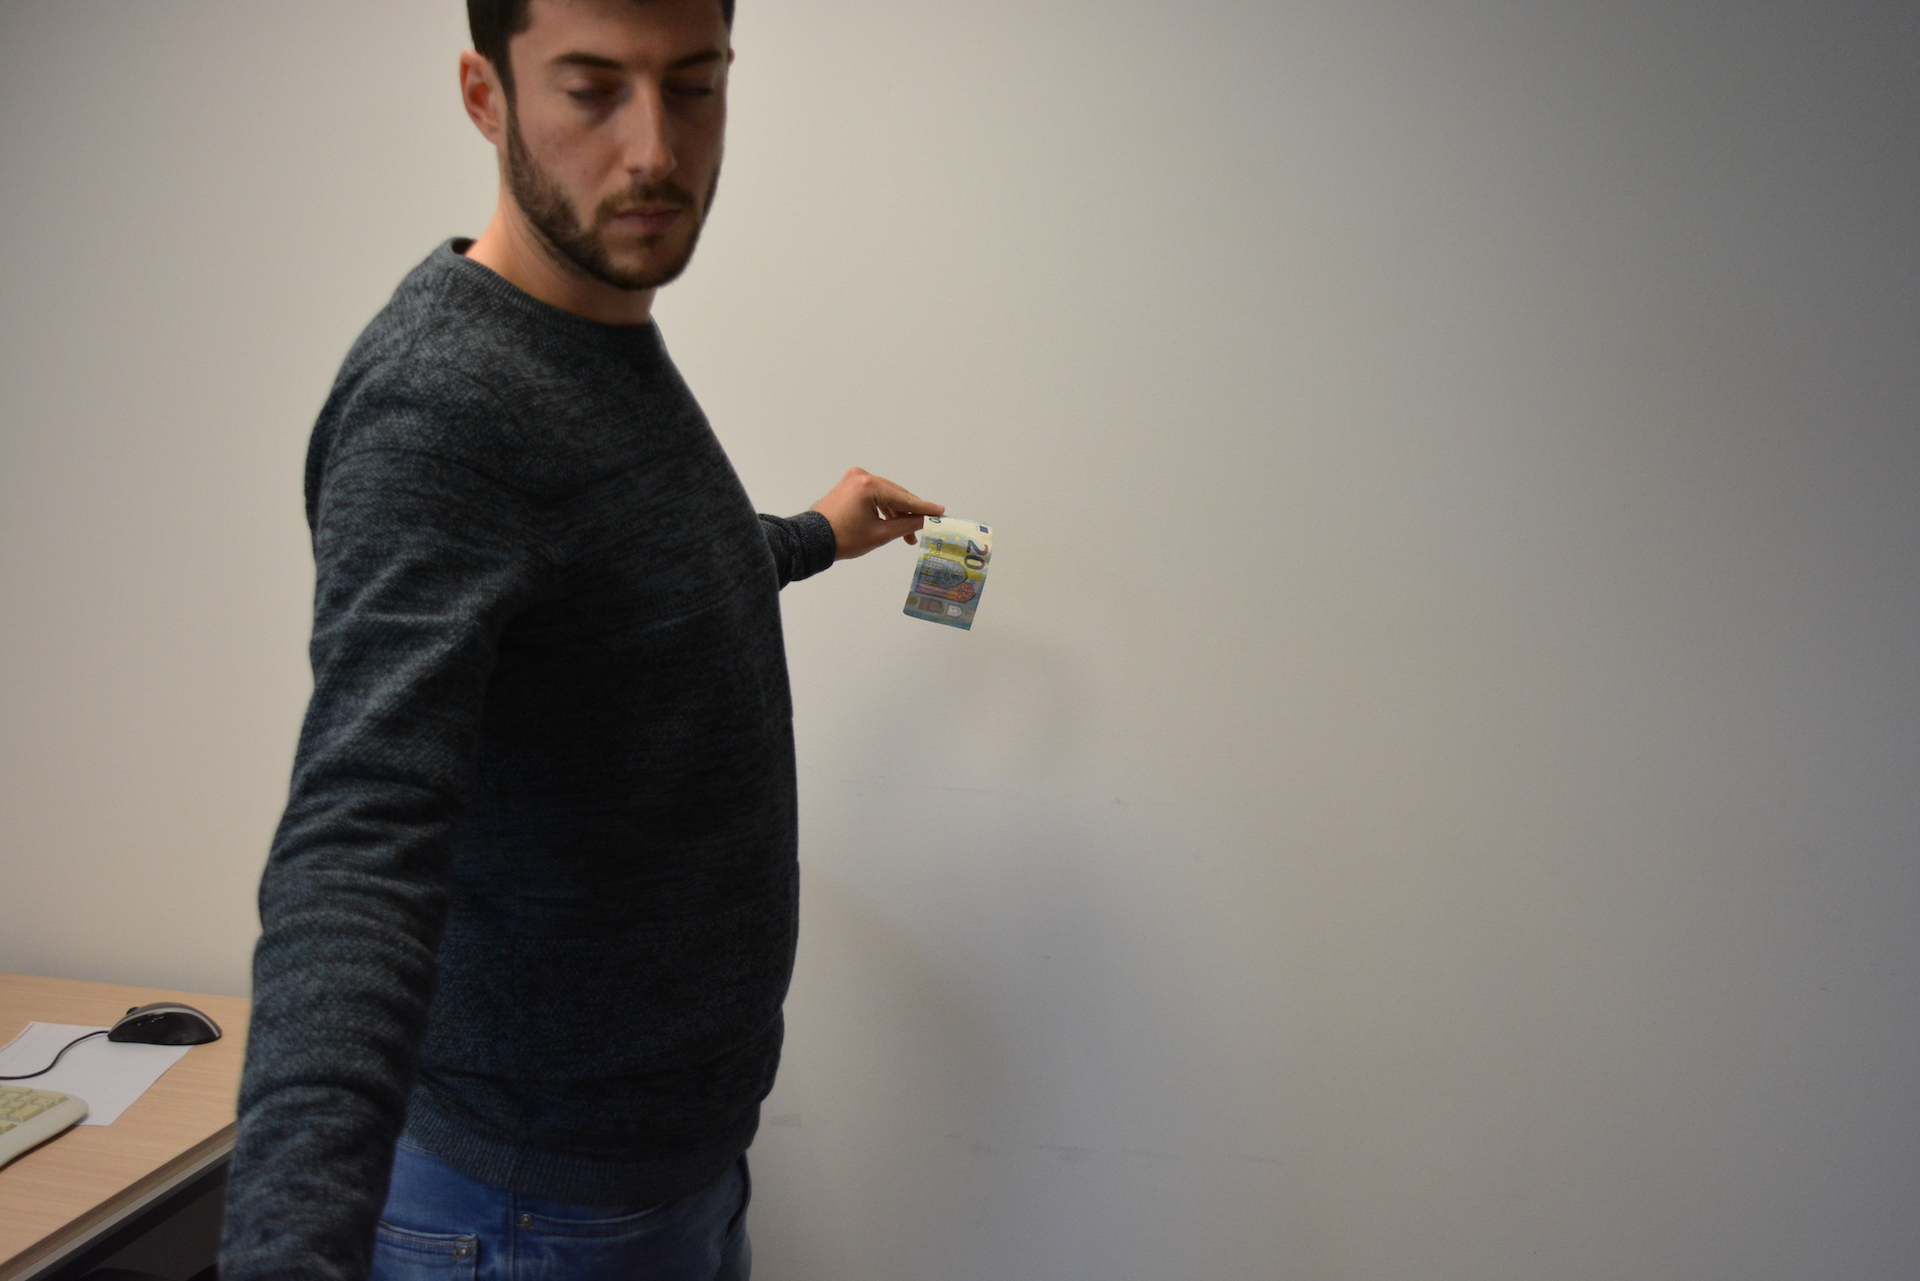billete: (902, 513, 994, 633)
